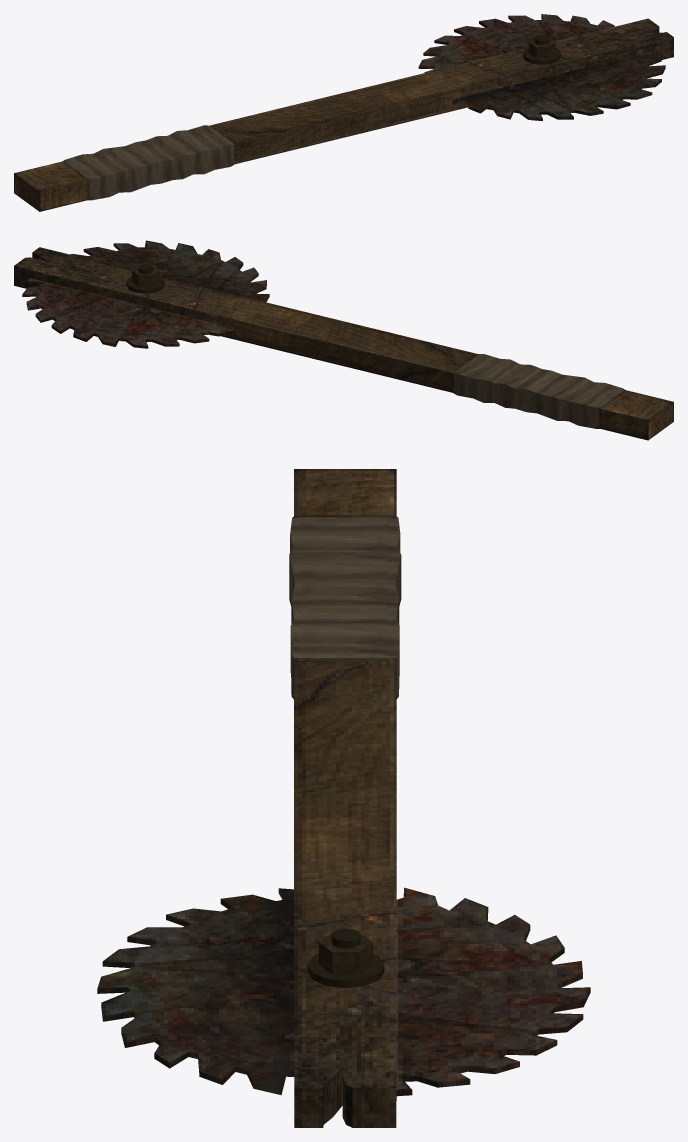
The model's file is makeshift_melee_mx_1.glb.
The picture shows the model from 3 angles, top to bottom: view 1: azimuth 30°, elevation 25°; view 2: azimuth 150°, elevation 25°; view 3: azimuth 270°, elevation 25°; orthographic projection. The views are drawn at different scales.
Visible parts, largest first — view 1: makeshift_melee_mx_1; view 2: makeshift_melee_mx_1; view 3: makeshift_melee_mx_1.
Part boxes in pixels (x1,y1,x2,y2): makeshift_melee_mx_1: (14,14,673,211); makeshift_melee_mx_1: (14,240,673,440); makeshift_melee_mx_1: (97,469,590,1127).
Bounding box in the file's own units: 1 × 0.0804 × 0.3367.
Materials: 1 (1 with a texture image).
